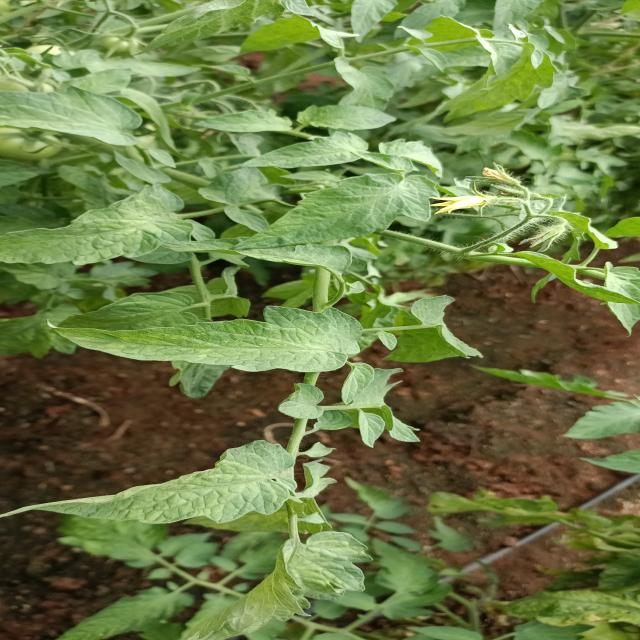Healthy Leaf: (4, 433, 312, 528), (45, 297, 375, 378), (226, 170, 438, 261)
